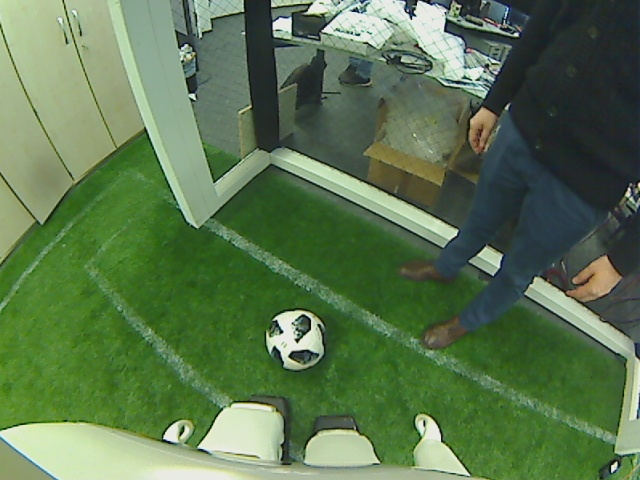ball: (263, 306, 327, 373)
